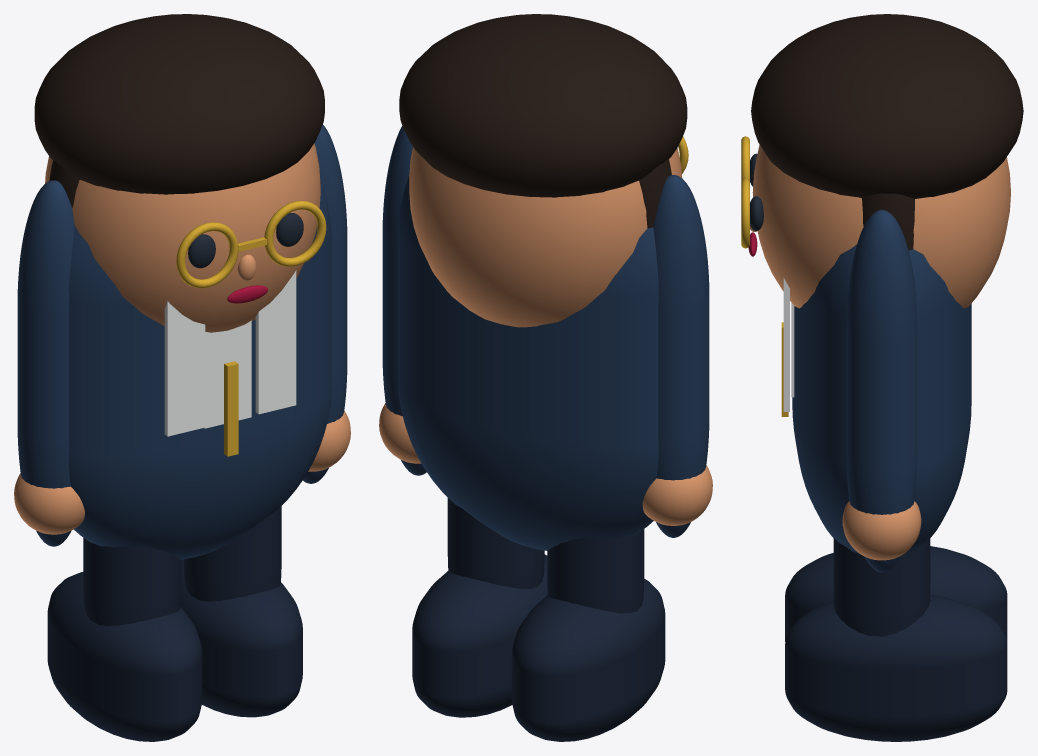
File: avatar-reference.glb
3 views of the same model, side by side, from view 1: azimuth 30°, elevation 25°; view 2: azimuth 150°, elevation 25°; view 3: azimuth 270°, elevation 25° (orthographic).
Visible parts, largest first — view 1: Jacket, Hair_Main, Body_Head, Shoe_Left, Arm_Left, Shoe_Right, Leg_Left, Leg_Right, Arm_Right, Jacket_Lapel_Left, Jacket_Lapel_Right, Shirt (+8 smaller); view 2: Jacket, Hair_Main, Body_Head, Shoe_Left, Arm_Left, Shoe_Right, Leg_Left, Leg_Right, Arm_Right, Hand_Left, Hand_Right, Hair_Side_Left; view 3: Hair_Main, Shoe_Right, Jacket, Arm_Right, Body_Head, Leg_Right, Shoe_Left, Hand_Right, Hair_Side_Right, Jacket_Lapel_Right, Glasses_Right.
Boxes of the visible parts, x1=… form: Jacket: x1=68, y1=181, x2=331, y2=559; Hair_Main: x1=34, y1=14, x2=324, y2=194; Body_Head: x1=45, y1=143, x2=320, y2=332; Shoe_Left: x1=47, y1=572, x2=202, y2=741; Arm_Left: x1=17, y1=180, x2=74, y2=546; Shoe_Right: x1=180, y1=559, x2=302, y2=717; Leg_Left: x1=83, y1=537, x2=181, y2=626; Leg_Right: x1=183, y1=506, x2=281, y2=601; Arm_Right: x1=302, y1=124, x2=347, y2=483; Jacket_Lapel_Left: x1=164, y1=301, x2=205, y2=436; Jacket_Lapel_Right: x1=255, y1=270, x2=296, y2=414; Shirt: x1=204, y1=320, x2=251, y2=428; Jacket: x1=398, y1=176, x2=658, y2=550; Hair_Main: x1=399, y1=14, x2=687, y2=197; Body_Head: x1=409, y1=147, x2=682, y2=327; Shoe_Left: x1=511, y1=579, x2=665, y2=741; Arm_Left: x1=653, y1=175, x2=709, y2=537; Shoe_Right: x1=412, y1=554, x2=547, y2=717; Leg_Left: x1=547, y1=529, x2=644, y2=613; Leg_Right: x1=447, y1=498, x2=544, y2=588; Arm_Right: x1=382, y1=126, x2=426, y2=475; Hand_Left: x1=642, y1=465, x2=712, y2=525; Hand_Right: x1=379, y1=403, x2=421, y2=463; Hair_Side_Left: x1=639, y1=159, x2=671, y2=228; Hair_Main: x1=751, y1=14, x2=1023, y2=198; Shoe_Right: x1=785, y1=594, x2=1007, y2=741; Jacket: x1=792, y1=244, x2=971, y2=553; Arm_Right: x1=846, y1=209, x2=917, y2=572; Body_Head: x1=752, y1=144, x2=1010, y2=308; Leg_Right: x1=833, y1=538, x2=930, y2=636; Shoe_Left: x1=785, y1=546, x2=1007, y2=641; Hand_Right: x1=842, y1=501, x2=921, y2=560; Hair_Side_Right: x1=862, y1=193, x2=914, y2=250; Jacket_Lapel_Right: x1=783, y1=278, x2=789, y2=411; Glasses_Right: x1=741, y1=178, x2=749, y2=248.
Size of the model in its own units: 2.08 by 4.15 by 1.57.
